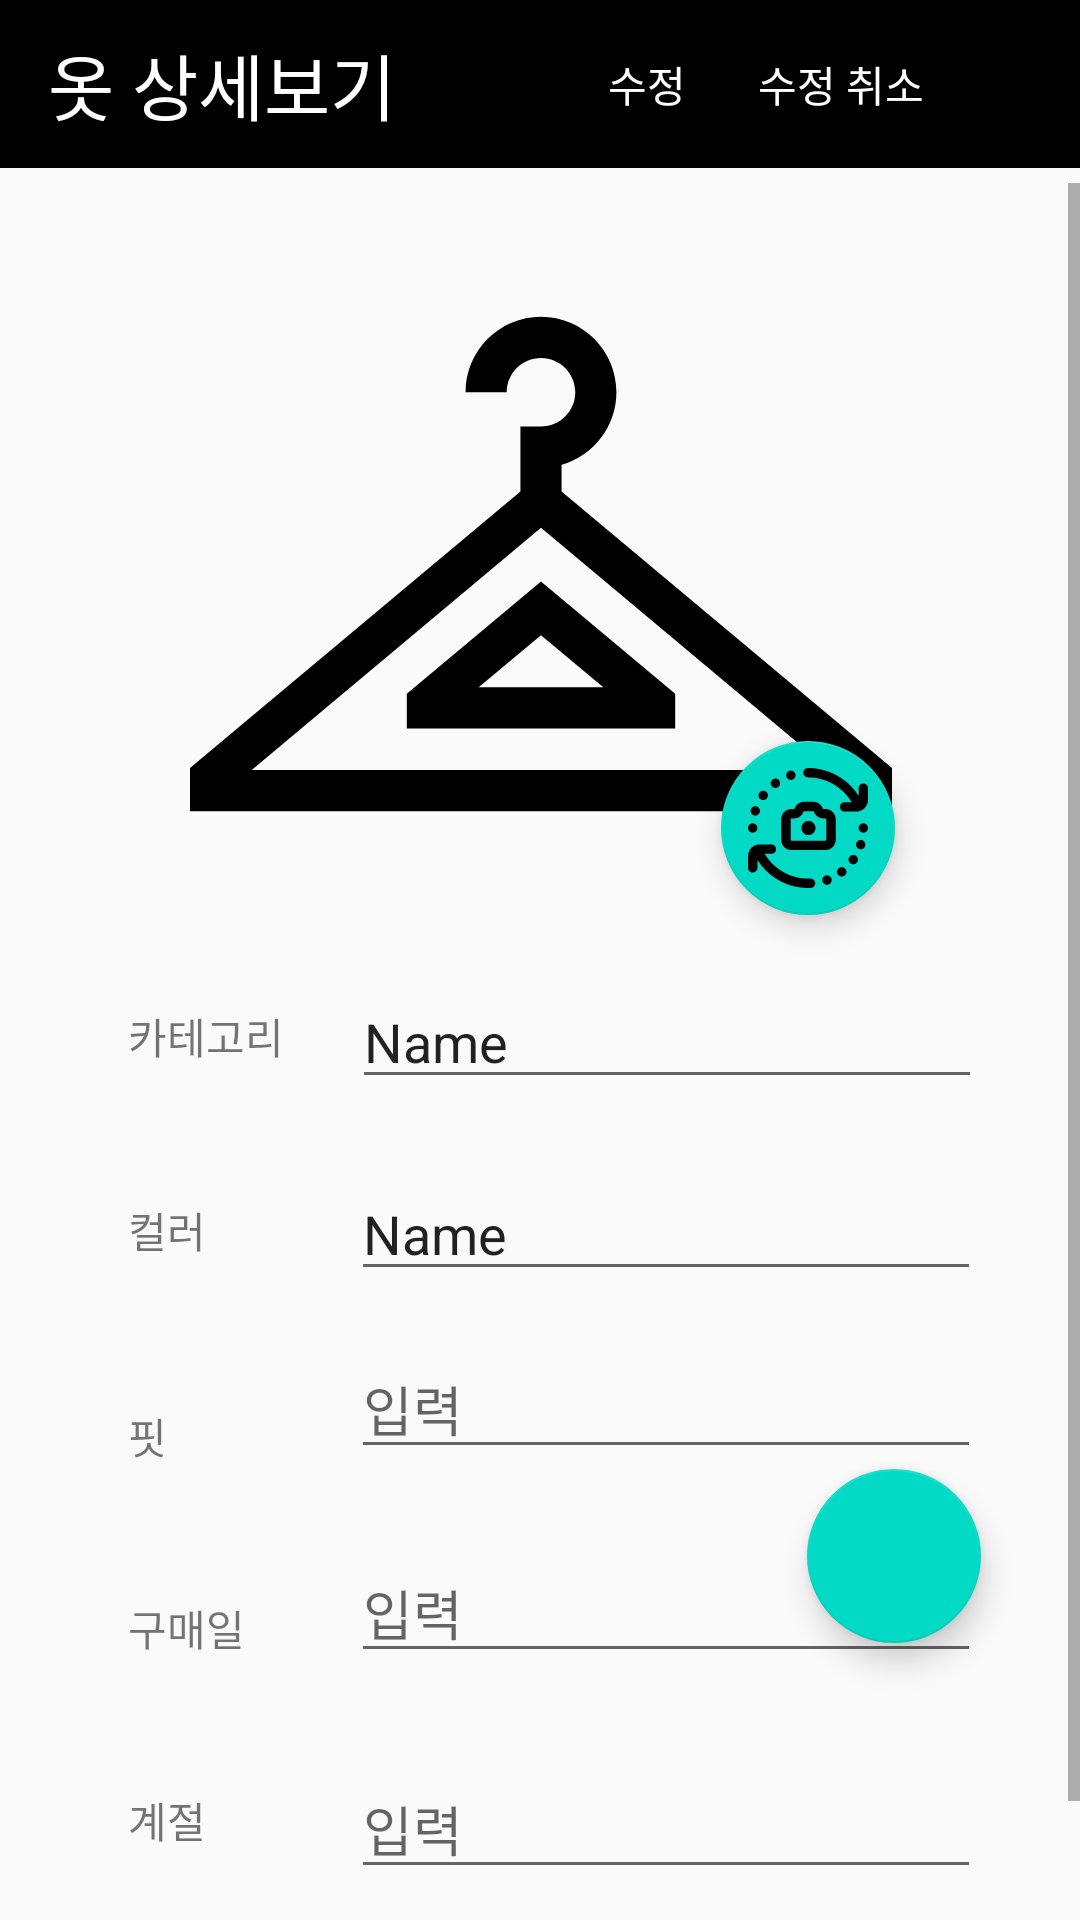

Locate icon controls on the screen. Image size 1080px x 1920px, boxes as (x1, y1, x2, y2).
change: (721, 741, 895, 915)
